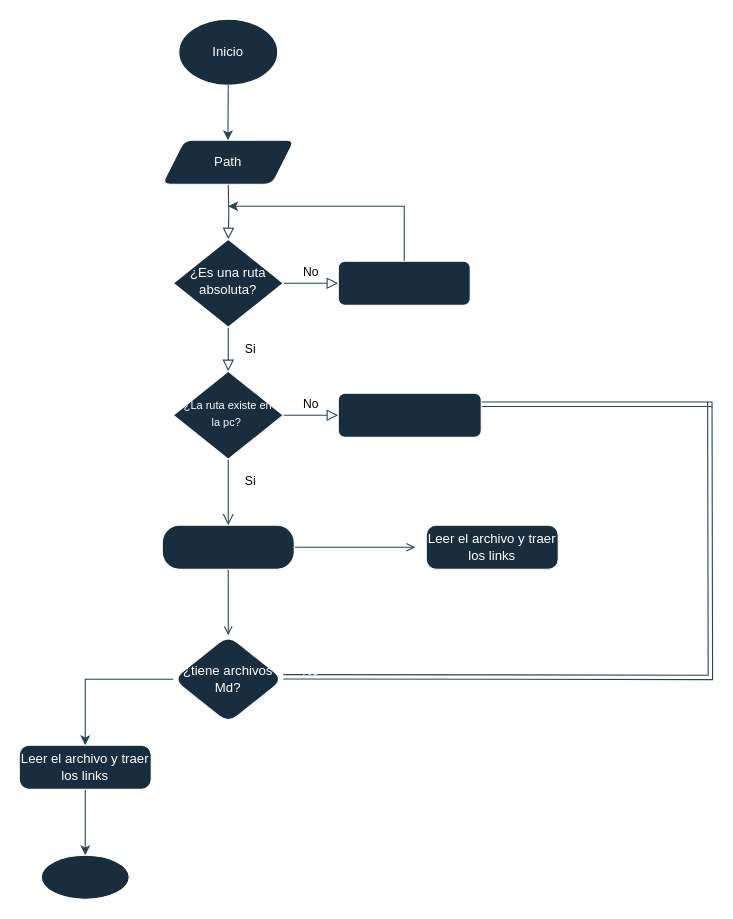
Some shapes in this 733 by 919 pixel diagram are drawn without their labels. The box of each missing label's shape, as (x1, y1, x2, y2) in pixels:
Convertirla a absoluta: (337, 260, 470, 305)
Fin: (40, 854, 129, 899)
Rechazar con un error: (337, 392, 481, 437)
Verificar si es un directorio: (161, 524, 294, 569)
